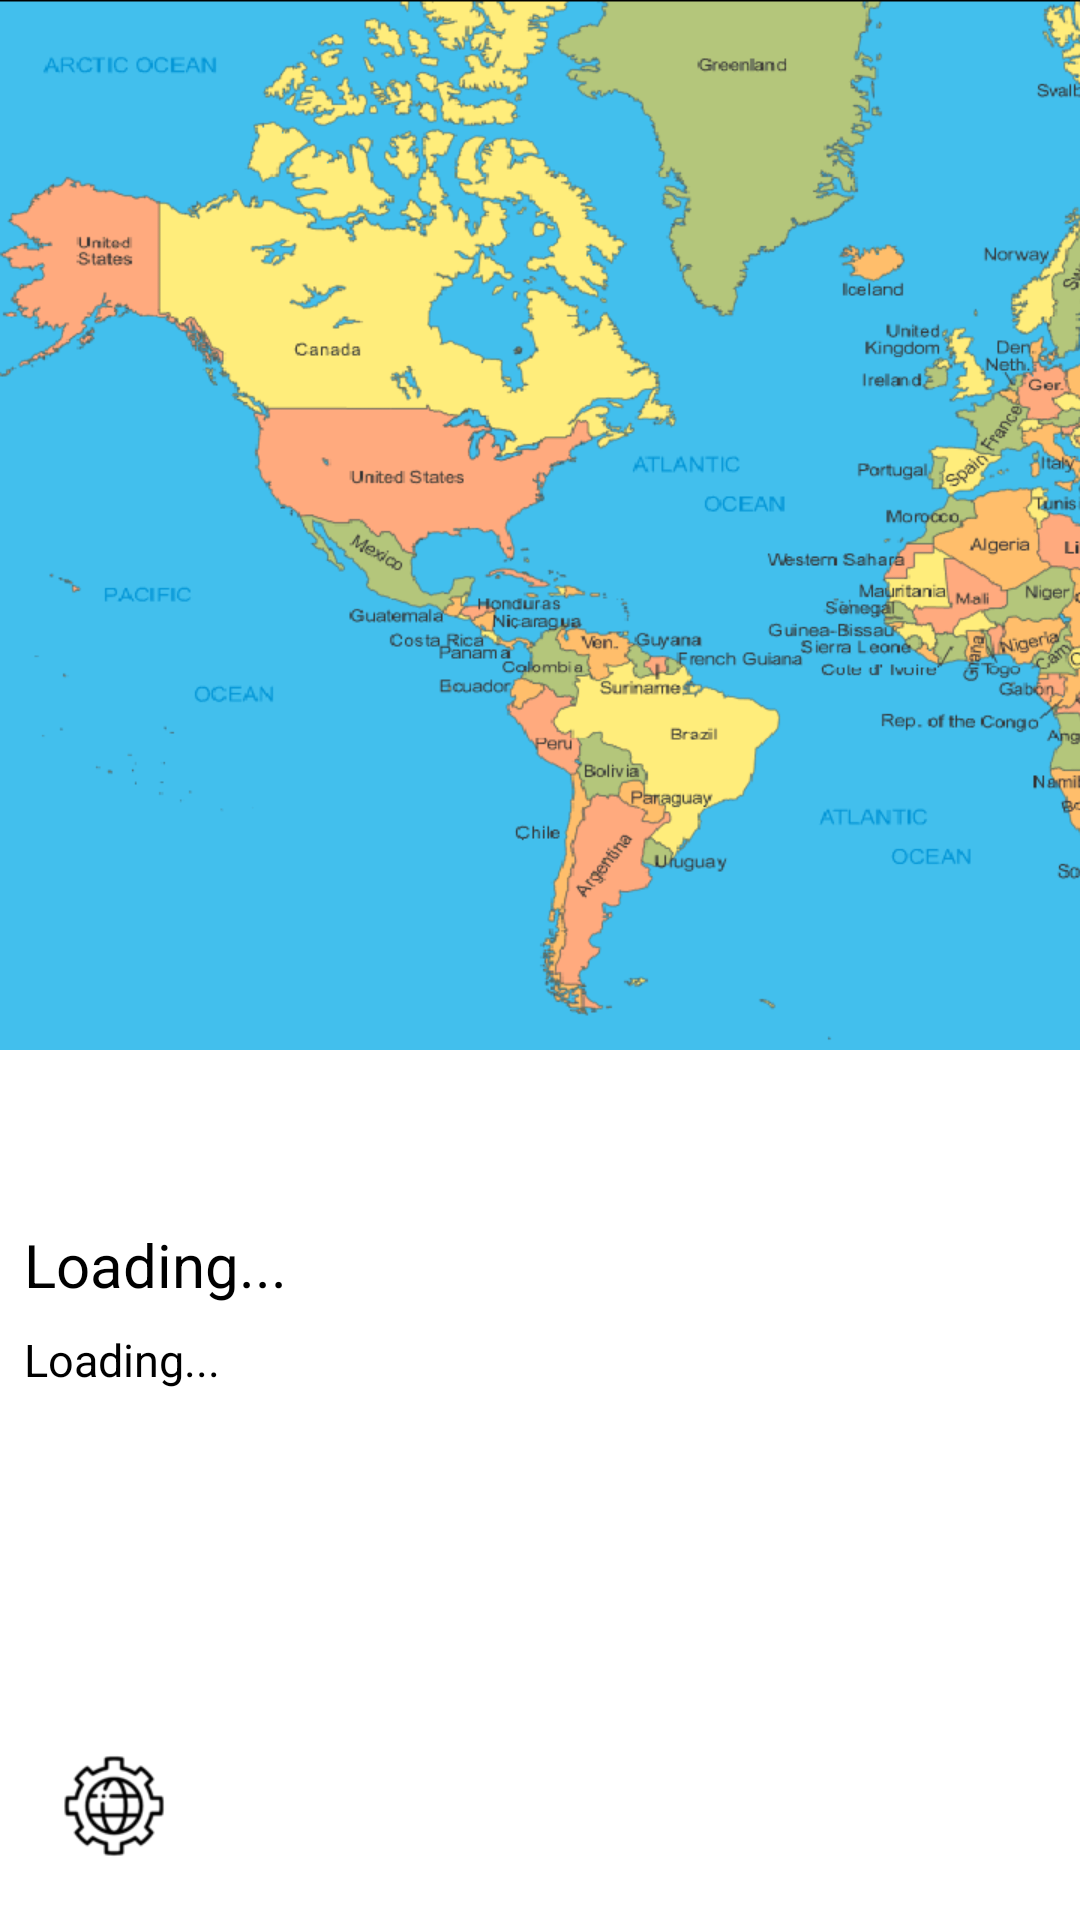

Named icons in this screenshot (1080x1920) and their bounding boxes, {"x1": x1, "y1": y1, "x2": x2, "y2": y2}:
Setting: {"x1": 64, "y1": 1756, "x2": 164, "y2": 1856}
